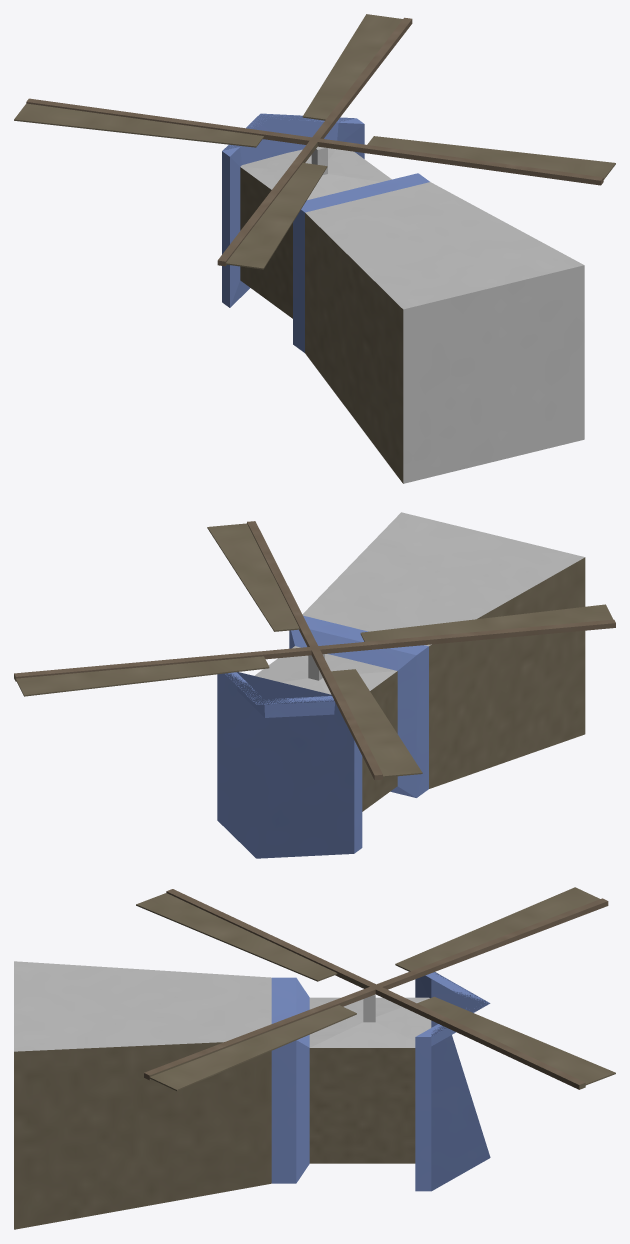
Rendered from blue_symbol_windmill.FBX.
3 views of the same model, one above another, from view 1: azimuth 30°, elevation 25°; view 2: azimuth 150°, elevation 25°; view 3: azimuth 270°, elevation 25° (orthographic). The views are drawn at different scales.
Visible parts, largest first — view 1: windmill; view 2: windmill; view 3: windmill.
Boxes of the visible parts, left/top/right/bottom form: windmill: left=14, top=14, right=615, bottom=483; windmill: left=14, top=512, right=615, bottom=858; windmill: left=14, top=887, right=615, bottom=1229.
Bounding box in the file's own units: 202 × 91.62 × 254.
